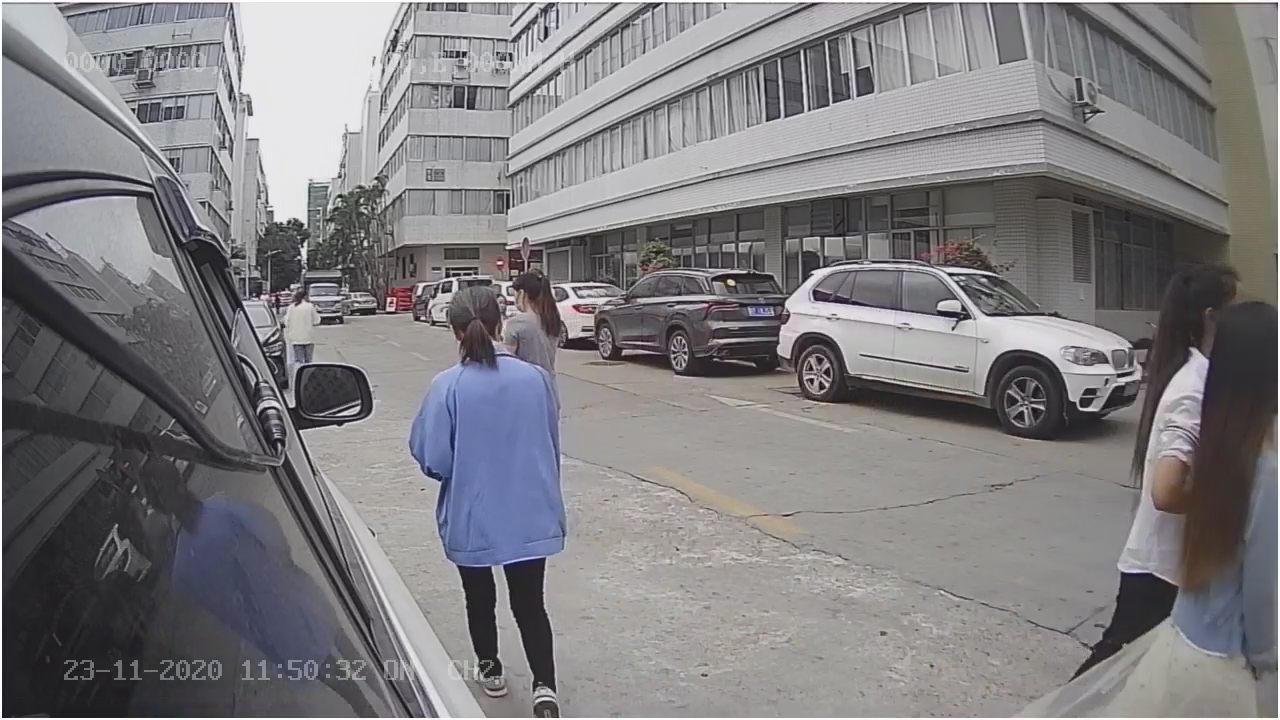person: (404, 276, 567, 479)
